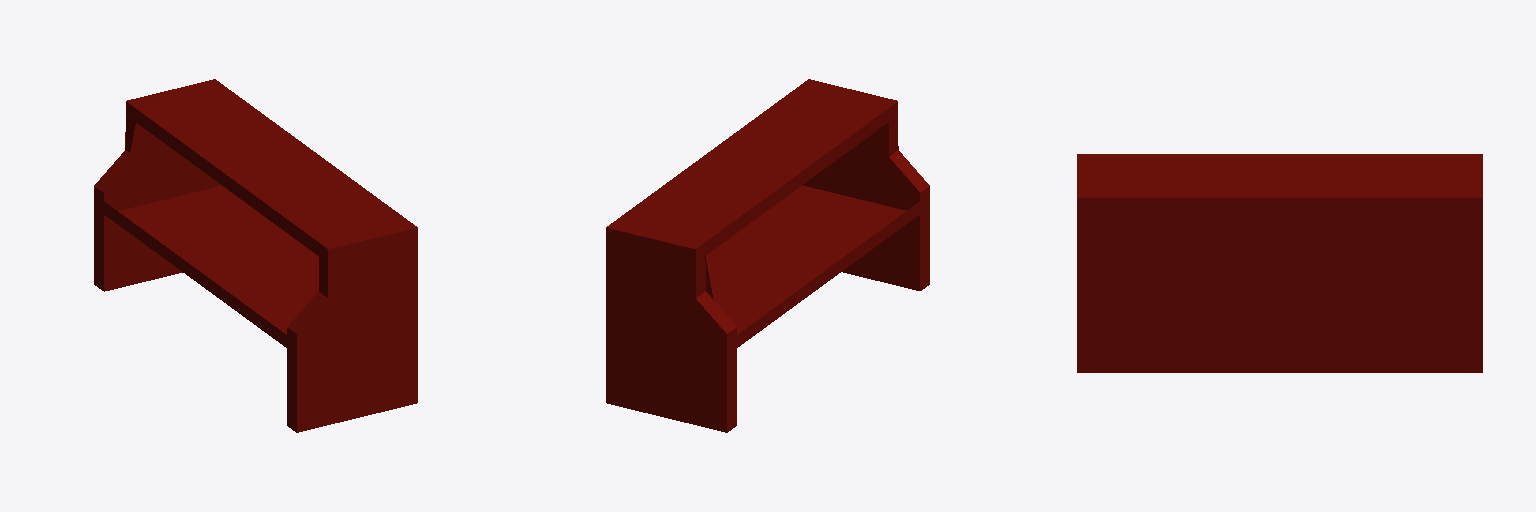
Rendered from escritorio.obj.
3 renders of one model, left to right at view 1: azimuth 30°, elevation 25°; view 2: azimuth 150°, elevation 25°; view 3: azimuth 270°, elevation 25°, orthographic.
Parts seen in each view (by area): view 1: Cube; view 2: Cube; view 3: Cube.
Part boxes in pixels (bbox=[...]): Cube: bbox=[94, 79, 417, 432]; Cube: bbox=[606, 79, 929, 432]; Cube: bbox=[1077, 154, 1482, 372].
Bounding box in the file's own units: 2.07 × 2.86 × 5.99.